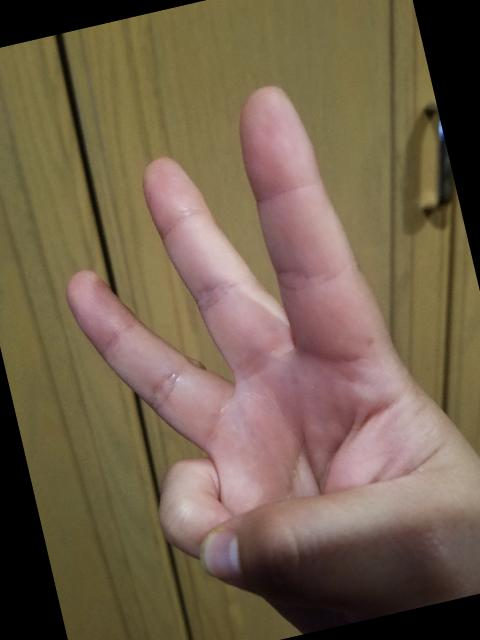W: (23, 44, 480, 640)
